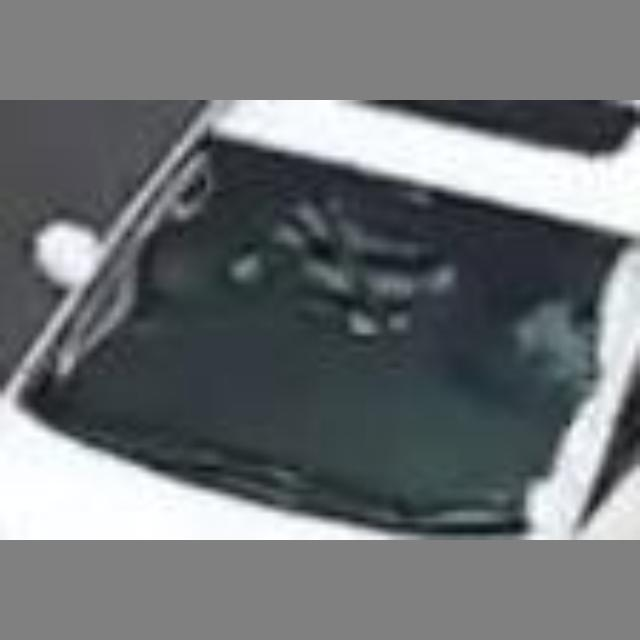pakai: (263, 157, 446, 369)
